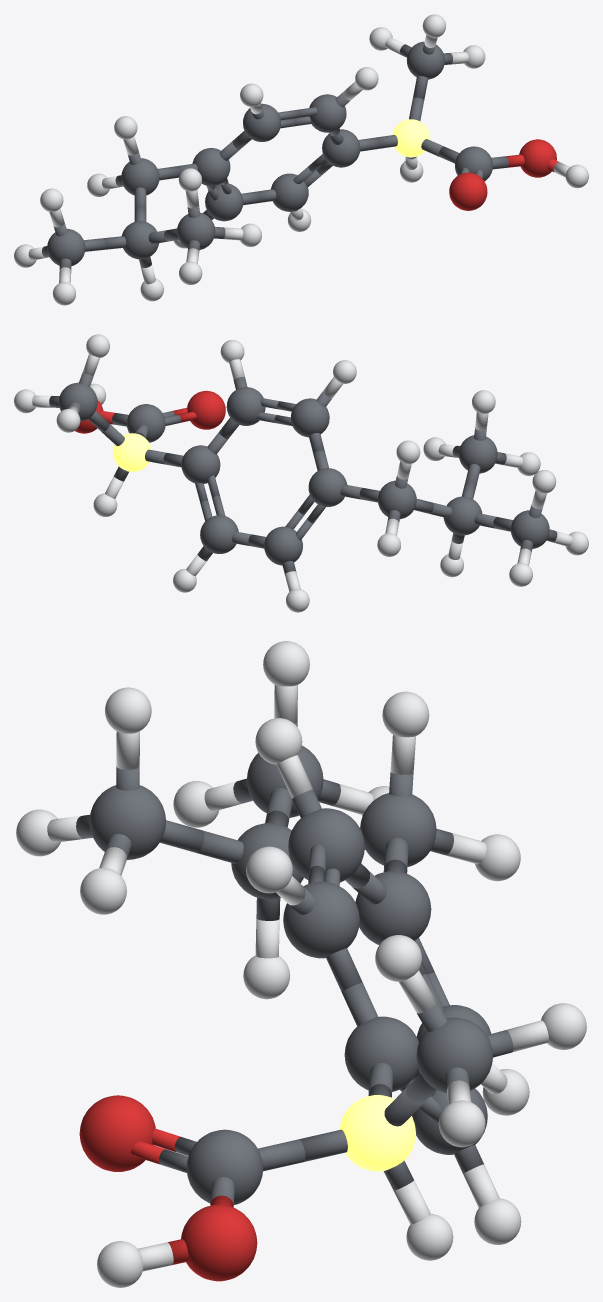
File: r_ibuprofen.glb
The picture shows the model from 3 angles, top to bottom: view 1: azimuth 30°, elevation 25°; view 2: azimuth 150°, elevation 25°; view 3: azimuth 270°, elevation 25°; orthographic projection. The views are drawn at different scales.
Parts seen in each view (by area): view 1: r_ibuprofen; view 2: r_ibuprofen; view 3: r_ibuprofen.
Boxes of the visible parts, x1,y1,x2,y2 form: r_ibuprofen: (14, 14, 588, 305); r_ibuprofen: (14, 334, 588, 612); r_ibuprofen: (16, 641, 586, 1287).
Size of the model in its own units: 11.13 by 4.37 by 5.35.
